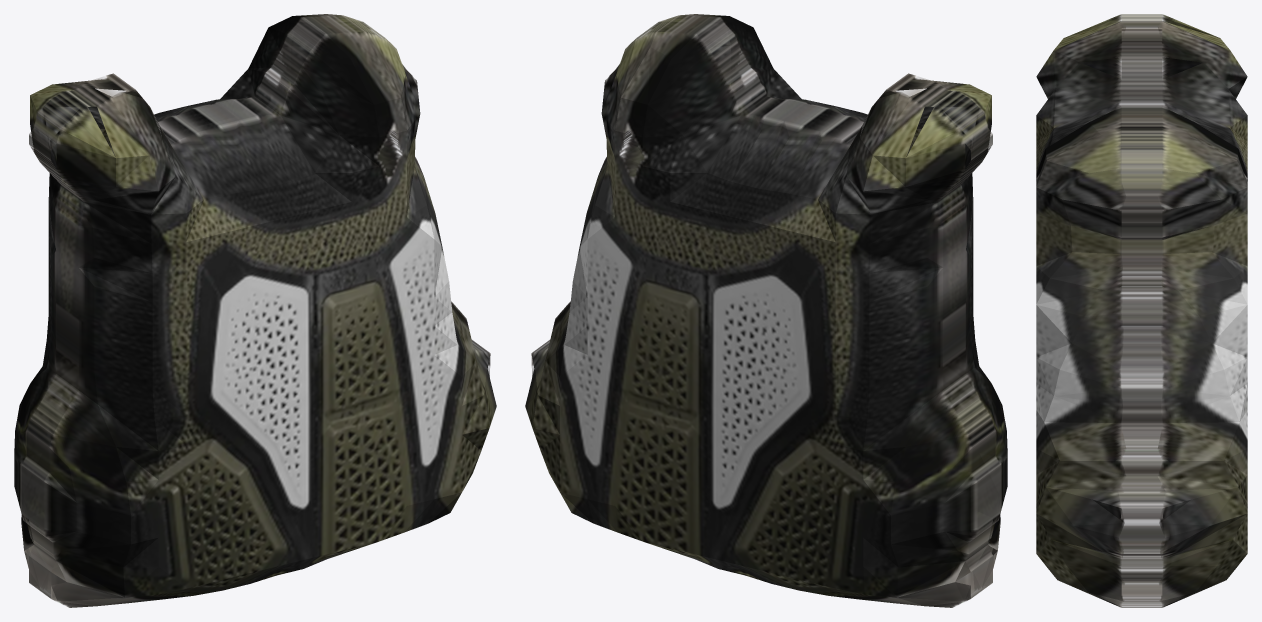
The model's file is shoei-vantage-chest-protector-154.glb.
3 views of the same model, side by side, from view 1: azimuth 30°, elevation 25°; view 2: azimuth 150°, elevation 25°; view 3: azimuth 270°, elevation 25° (orthographic). The views are drawn at different scales.
Parts seen in each view (by area): view 1: world; view 2: world; view 3: world.
Part boxes in pixels (box(x1,y1,x2,y2)): world: box(14, 14, 496, 607); world: box(525, 14, 1007, 607); world: box(1036, 14, 1247, 607).
Bounding box in the file's own units: 0.8901 × 1 × 0.4.
1 material, 1 textured.
